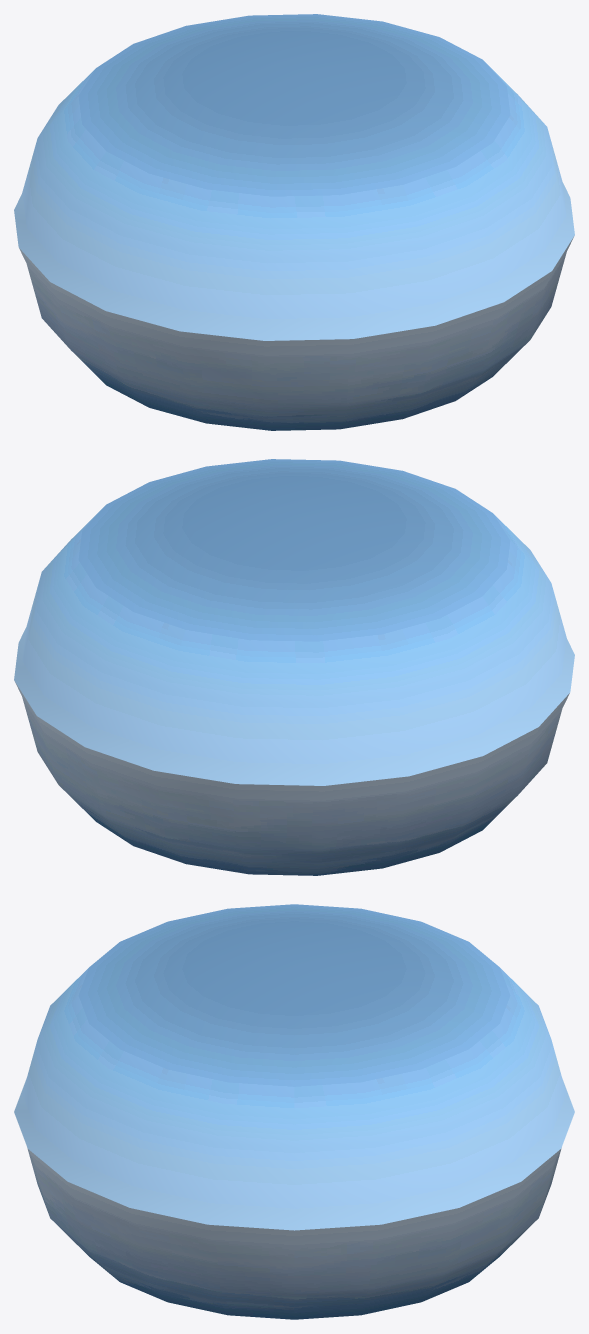
File: stage-tuli-sky.glb
The picture shows the model from 3 angles, top to bottom: view 1: azimuth 30°, elevation 25°; view 2: azimuth 150°, elevation 25°; view 3: azimuth 270°, elevation 25°; orthographic projection.
Parts seen in each view (by area): view 1: sky; view 2: sky; view 3: sky.
Part boxes in pixels (bbox=[...]): sky: bbox=[14, 14, 574, 430]; sky: bbox=[14, 459, 574, 875]; sky: bbox=[14, 904, 574, 1319].
Size of the model in its own units: 3660 by 2190 by 3660.
Materials: 5 (5 with a texture image).
